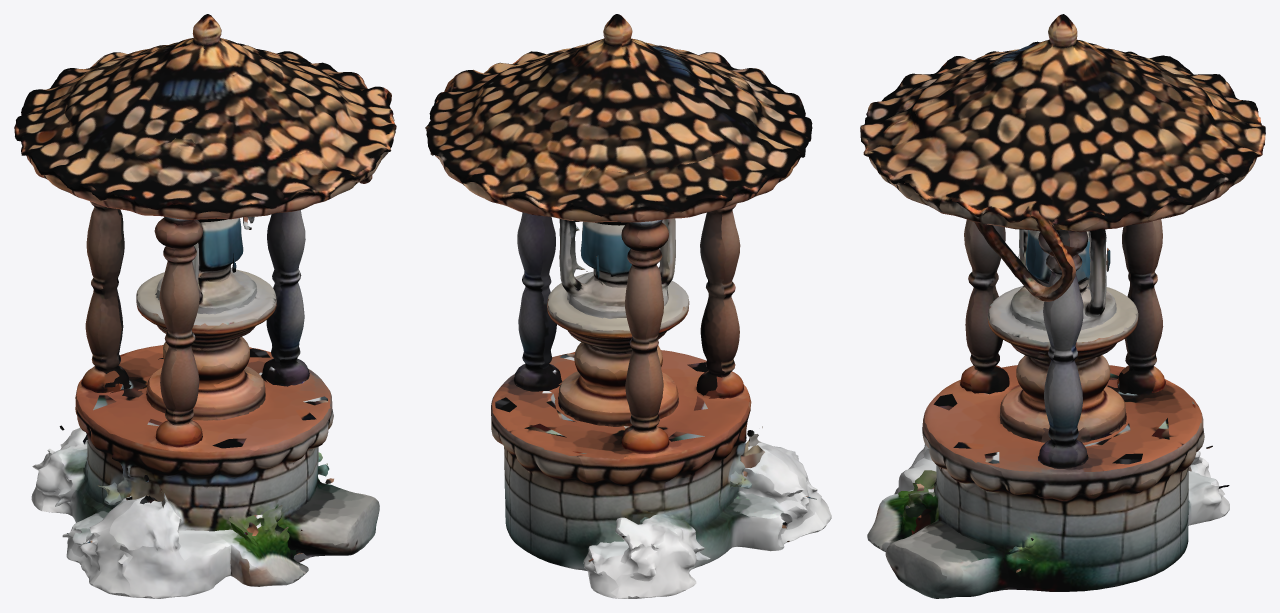
The model's file is pozo_bomba.glb.
3 views of the same model, side by side, from view 1: azimuth 30°, elevation 25°; view 2: azimuth 150°, elevation 25°; view 3: azimuth 270°, elevation 25° (orthographic). The views are drawn at different scales.
Visible parts, largest first — view 1: tmpyme27omk.ply; view 2: tmpyme27omk.ply; view 3: tmpyme27omk.ply.
Boxes of the visible parts, x1,y1,x2,y2 form: tmpyme27omk.ply: (14,14,396,598); tmpyme27omk.ply: (425,14,831,598); tmpyme27omk.ply: (860,14,1265,598).
Bounding box in the file's own units: 0.709 × 0.9904 × 0.6861.
Materials: 1 (1 with a texture image).
